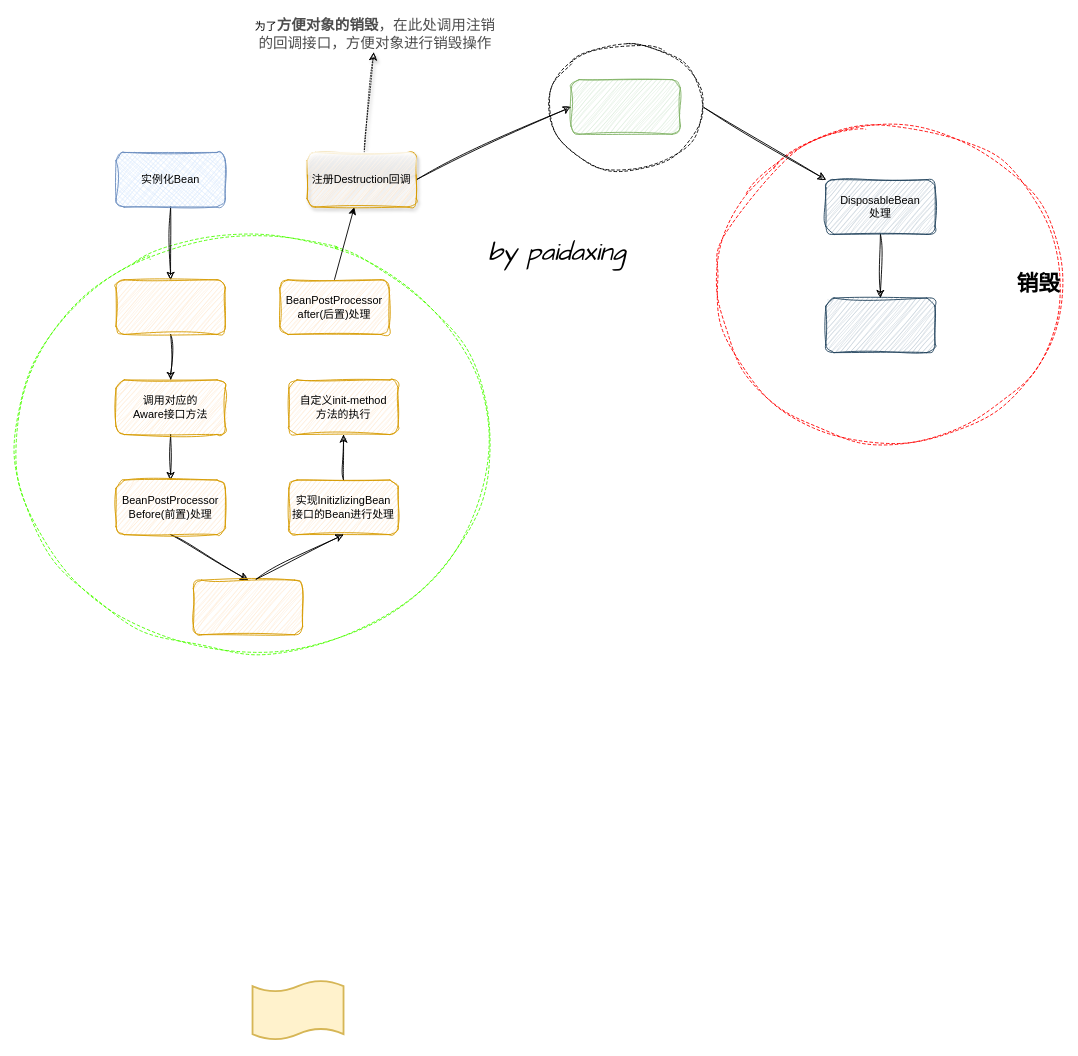
Some shapes in this 1078 by 1056 pixel diagram are drawn without their labels. Here are the shapes that lost their labels. From the top down, the centre of each, then its label:
At [625,106]: "此时的Bean 可以开始准备使用".
At [170,306]: "设置属性值".
At [880,325]: "自定义 destory-method 处理".
At [247,607]: "@PostConstruct 处理".
